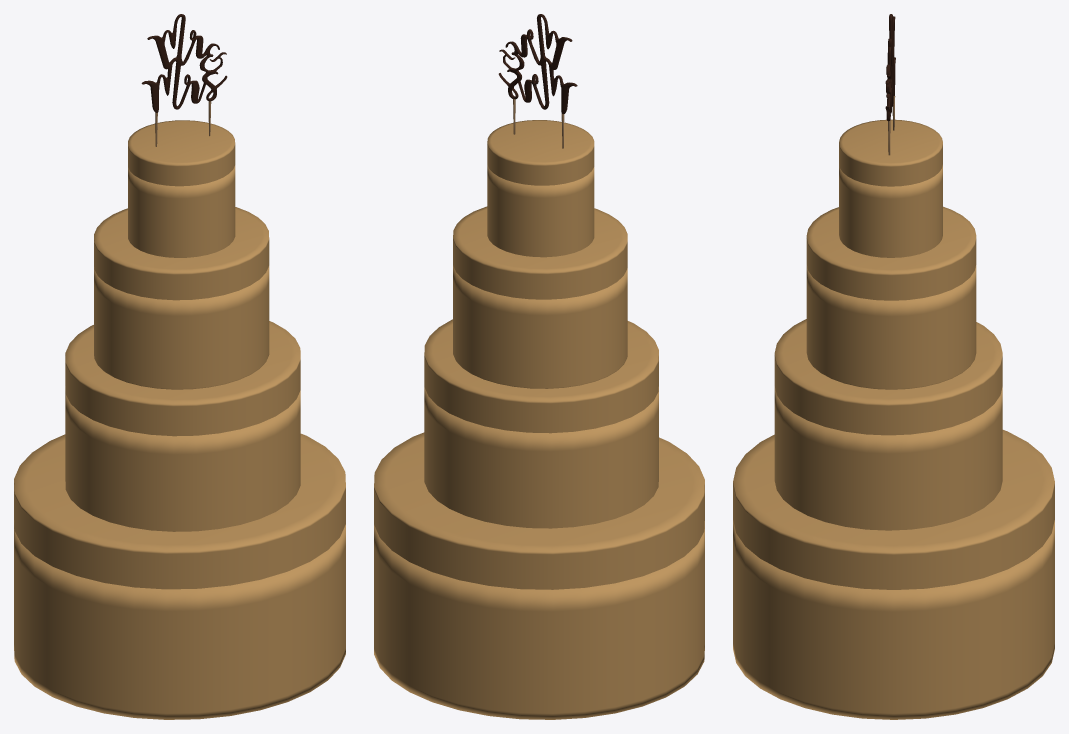
The model's file is 4-tier-caramel-none-mrms.glb.
The picture shows the model from 3 angles, left to right: view 1: azimuth 30°, elevation 25°; view 2: azimuth 150°, elevation 25°; view 3: azimuth 270°, elevation 25°; orthographic projection.
Parts seen in each view (by area): view 1: 3.001, 3, 2, 1, mrms.004; view 2: 3.001, 3, 2, 1, mrms.004; view 3: 3.001, 3, 2, 1, mrms.004.
Boxes of the visible parts, box(x1,y1,x2,y2) form: 3.001: box(14, 433, 345, 719); 3: box(65, 321, 300, 531); 2: box(94, 207, 269, 389); 1: box(128, 120, 235, 257); mrms.004: box(141, 14, 227, 146); 3.001: box(374, 432, 704, 719); 3: box(424, 319, 658, 528); 2: box(453, 206, 627, 388); 1: box(487, 120, 594, 257); mrms.004: box(498, 14, 577, 148); 3.001: box(733, 430, 1054, 719); 3: box(774, 319, 1002, 530); 2: box(806, 206, 976, 389); 1: box(839, 119, 942, 257); mrms.004: box(885, 14, 895, 155).
Size of the model in its own units: 4.43 by 9.28 by 4.27.
